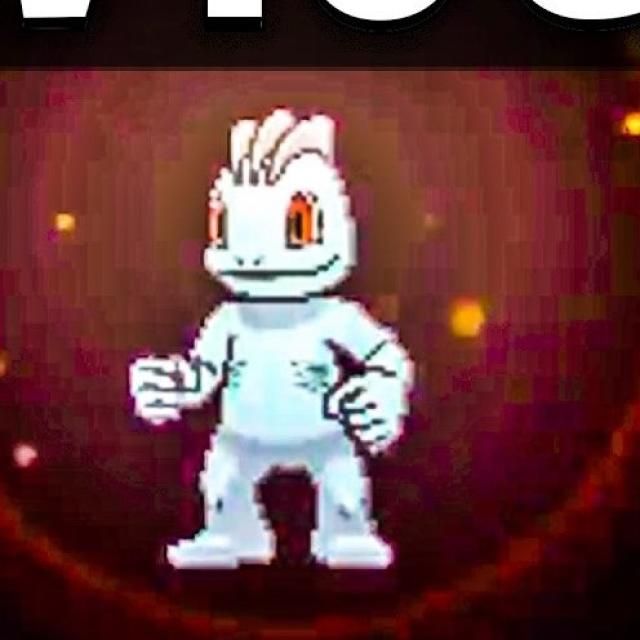Machop: (120, 112, 417, 579)
